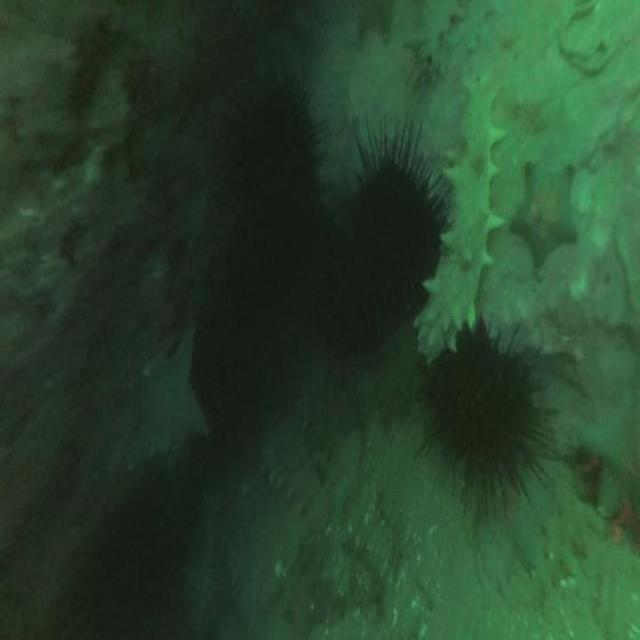echinus: (430, 330, 532, 484), (352, 160, 440, 318)
holothurian: (417, 70, 503, 366), (261, 427, 321, 512), (405, 1, 455, 80)
starfish: (131, 330, 209, 474), (576, 395, 640, 522), (510, 164, 580, 264)
